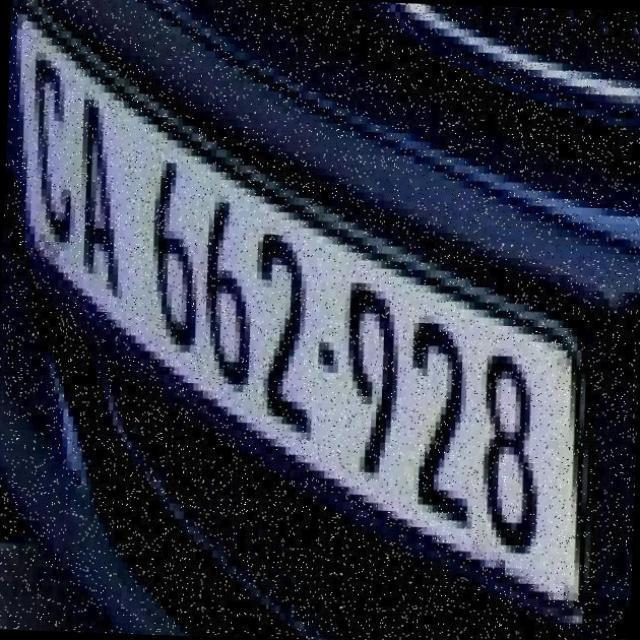License Plate: (0, 1, 620, 632)
